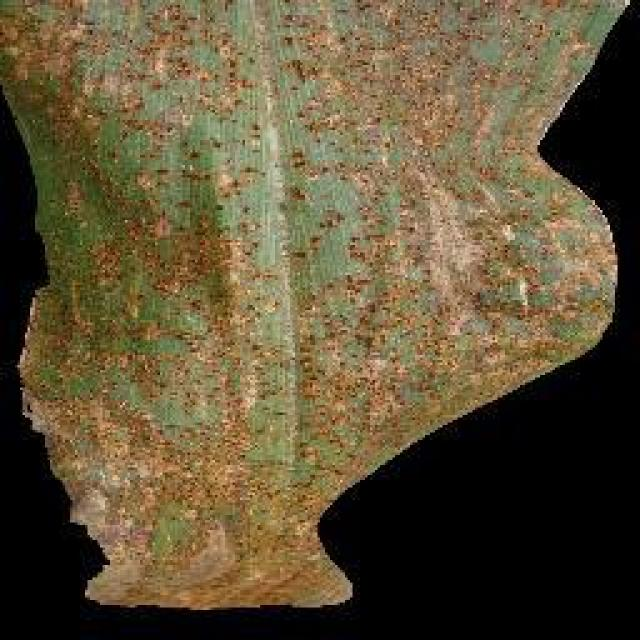Corn Common Rust: (60, 57, 450, 548)
